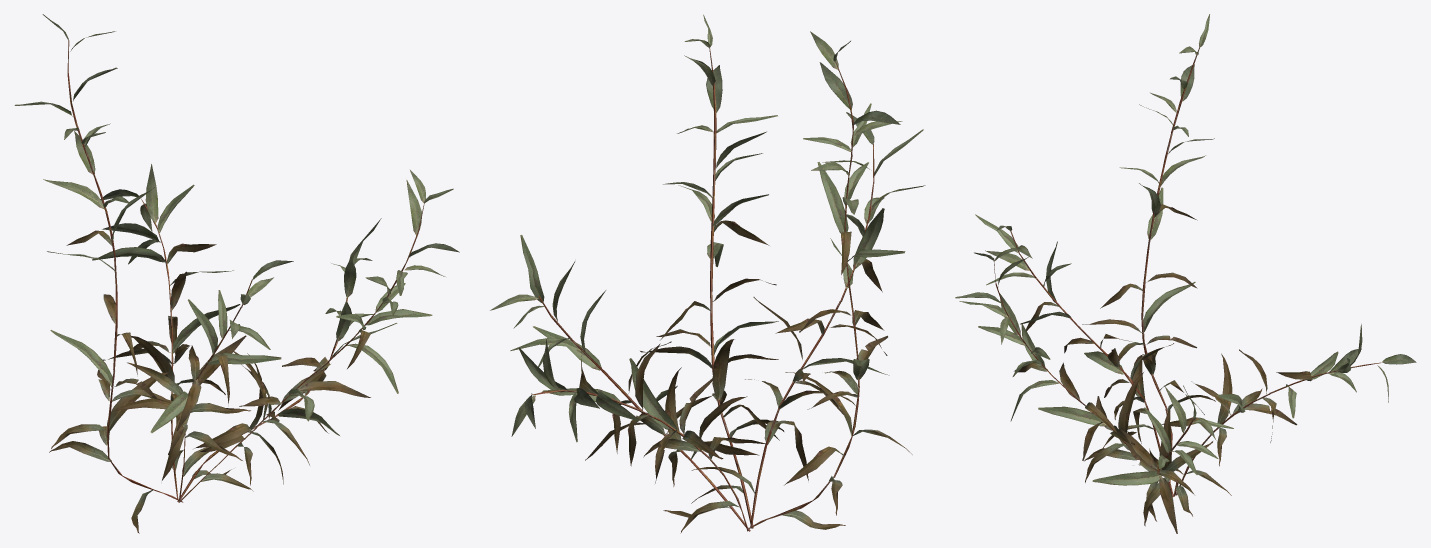
Rendered from shrub_02.glb.
3 renders of one model, left to right at view 1: azimuth 30°, elevation 25°; view 2: azimuth 150°, elevation 25°; view 3: azimuth 270°, elevation 25°, orthographic. The views are drawn at different scales.
Visible parts, largest first — view 1: shrub_02; view 2: shrub_02; view 3: shrub_02.
Part boxes in pixels (bbox=[...]): shrub_02: bbox=[14, 14, 459, 533]; shrub_02: bbox=[490, 14, 925, 533]; shrub_02: bbox=[955, 14, 1416, 533].
Bounding box in the file's own units: 1.31 × 1.69 × 1.63.
Materials: 1 (1 with a texture image).
